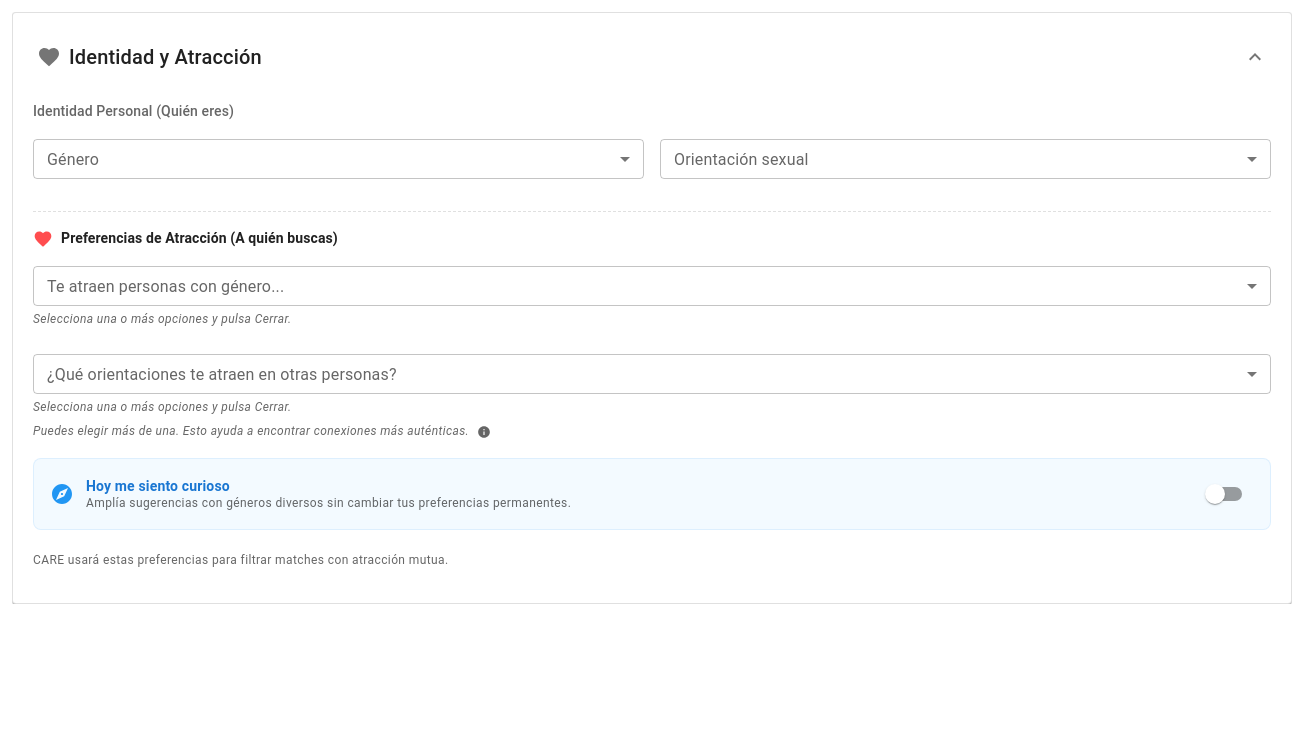
Test case: IdentitySection sexual-orientation combo (fixed global list) › renders every canonical orientation from supportedOrientations, ignoring the empty backend options
Press the mouse on the dropdown next to "Orientación sexual" at (966, 159), box [660,139,1271,179]
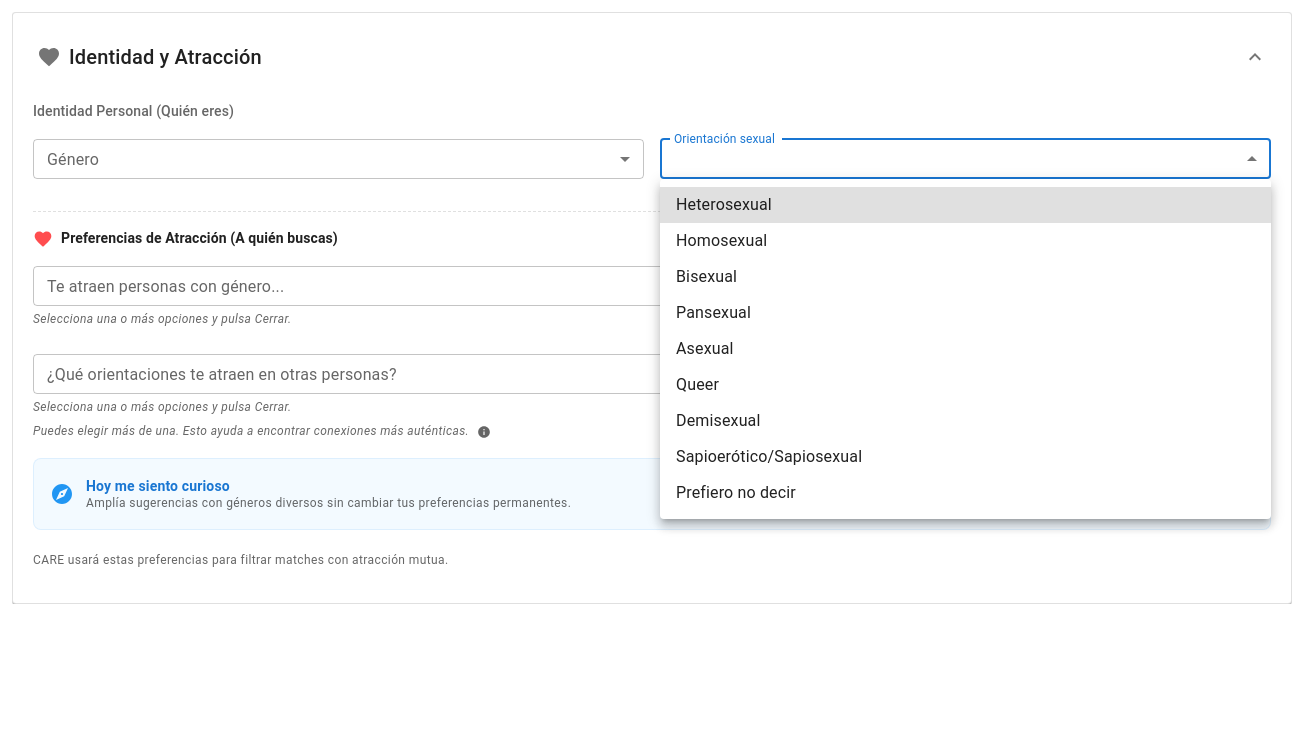
expect the number of options is 9: met
expect the option "Heterosexual" is shown: met, box [660,187,1271,223]
expect the option "Homosexual" is shown: met, box [676,231,767,250]
